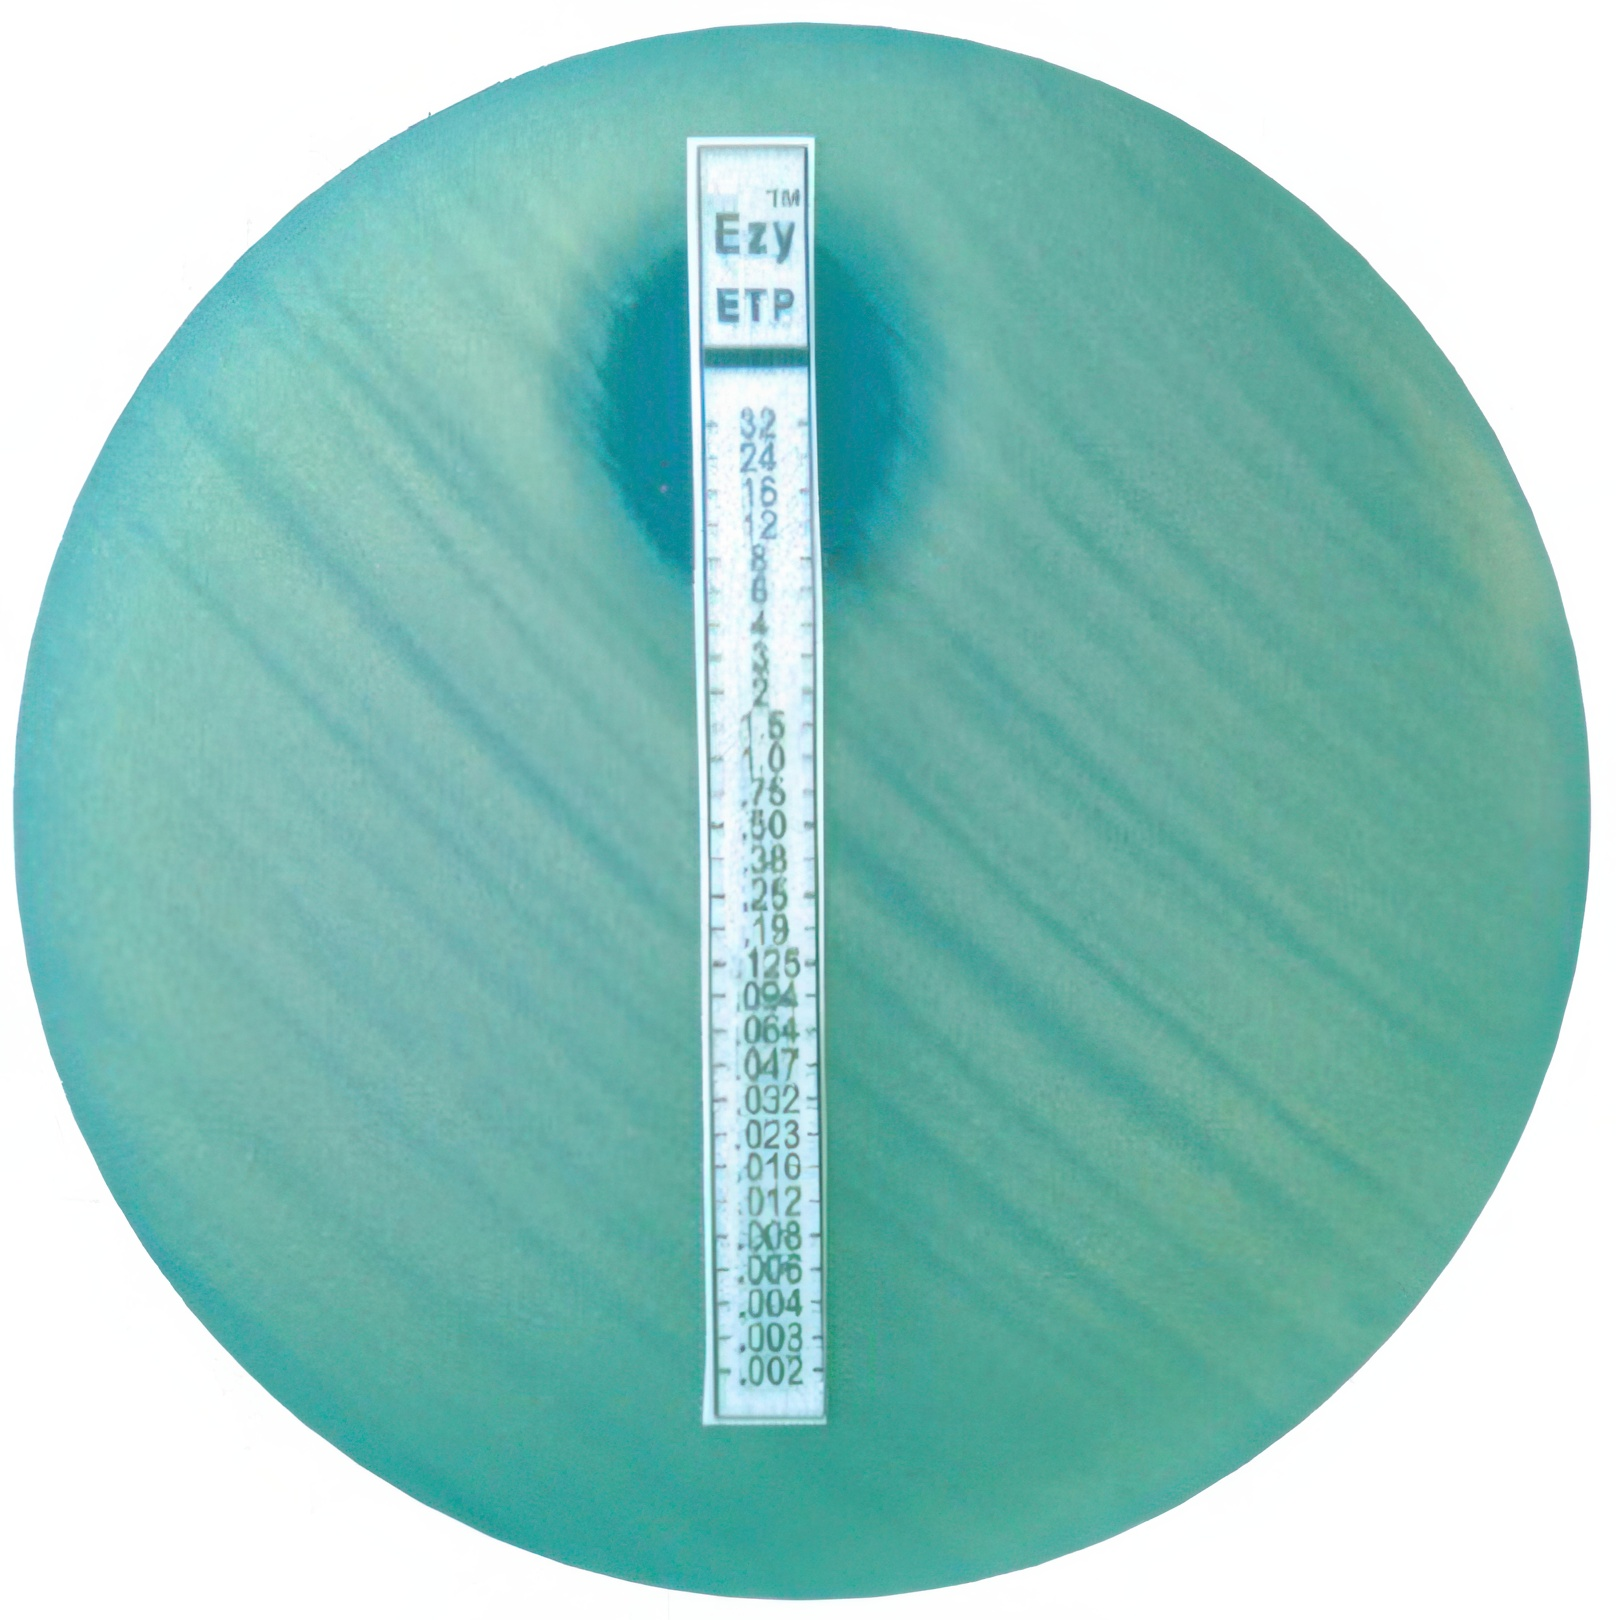line: (682, 133, 833, 1428)
zone: (605, 247, 894, 573)
